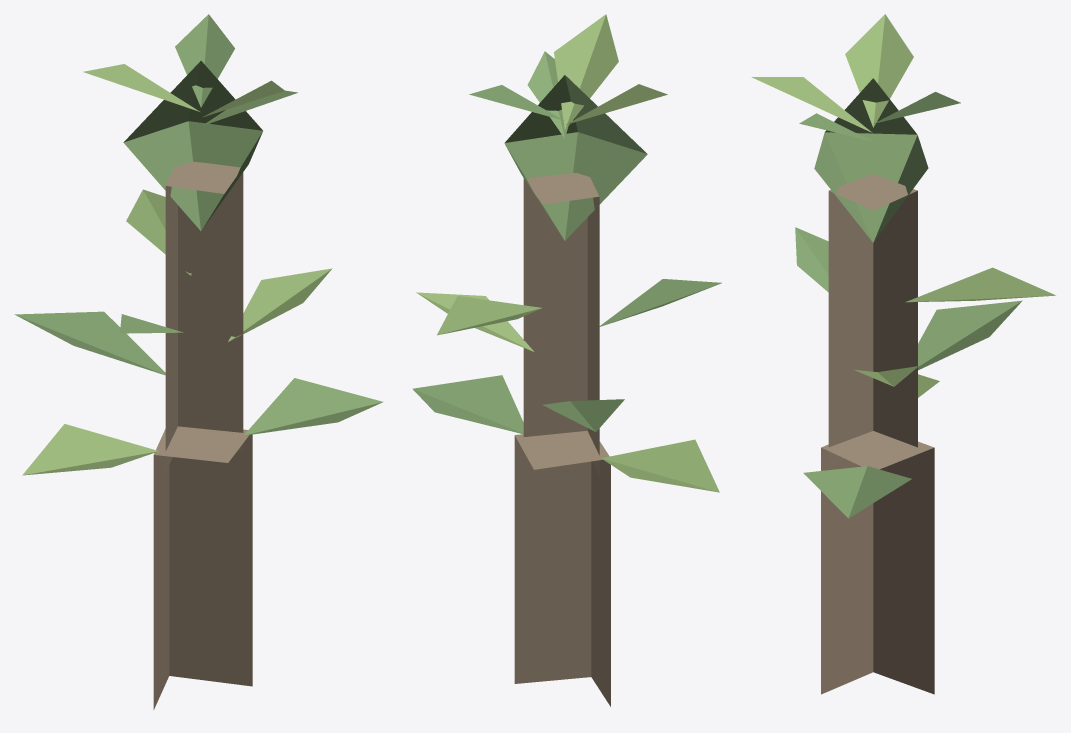
File: shu.binglang@seedling__bloom.glb
3 renders of one model, left to right at view 1: azimuth 30°, elevation 25°; view 2: azimuth 150°, elevation 25°; view 3: azimuth 270°, elevation 25°, orthographic. The views are drawn at different scales.
Visible parts, largest first — view 1: shu.binglang@seedling__bloom; view 2: shu.binglang@seedling__bloom; view 3: shu.binglang@seedling__bloom.
Part boxes in pixels (bbox=[...]): shu.binglang@seedling__bloom: bbox=[14, 14, 382, 709]; shu.binglang@seedling__bloom: bbox=[412, 14, 721, 706]; shu.binglang@seedling__bloom: bbox=[751, 14, 1055, 694].
Size of the model in its own units: 0.4116 by 0.7542 by 0.3327.
